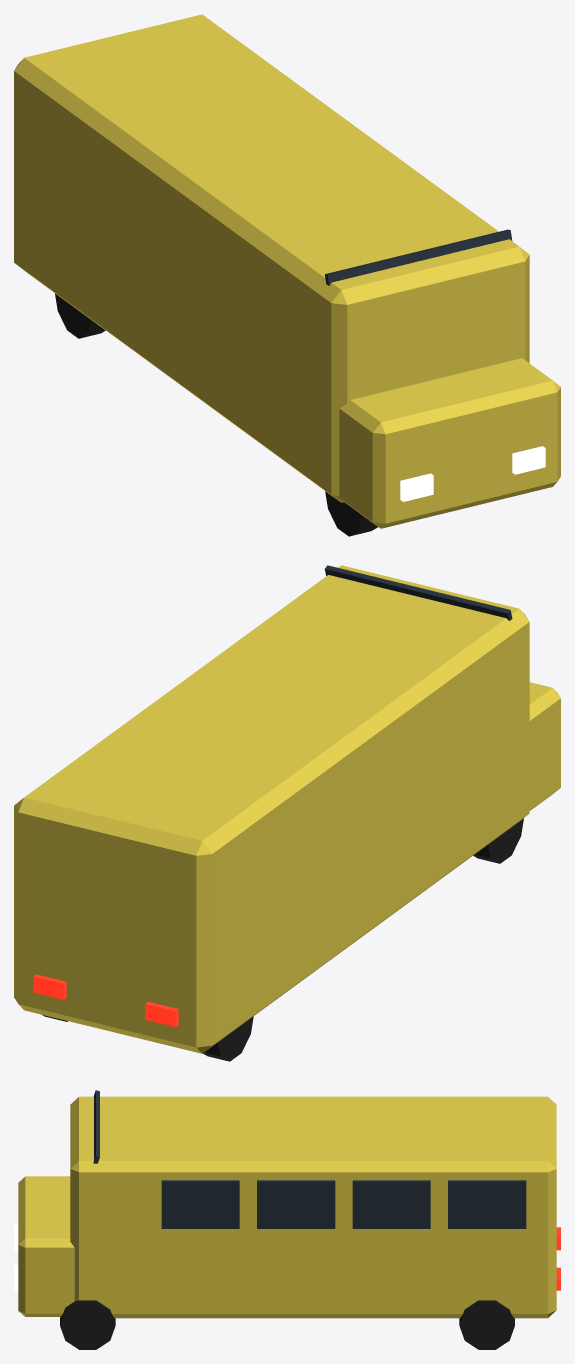
The model's file is van.glb.
3 views of the same model, one above another, from view 1: azimuth 30°, elevation 25°; view 2: azimuth 150°, elevation 25°; view 3: azimuth 270°, elevation 25° (orthographic). The views are drawn at different scales.
Parts seen in each view (by area): view 1: van; view 2: van; view 3: van.
Boxes of the visible parts, left/top/right/bottom form: van: left=14, top=14, right=560, bottom=536; van: left=14, top=565, right=560, bottom=1061; van: left=14, top=1090, right=560, bottom=1349.
Bounding box in the file's own units: 1.99 × 2.41 × 6.3.
